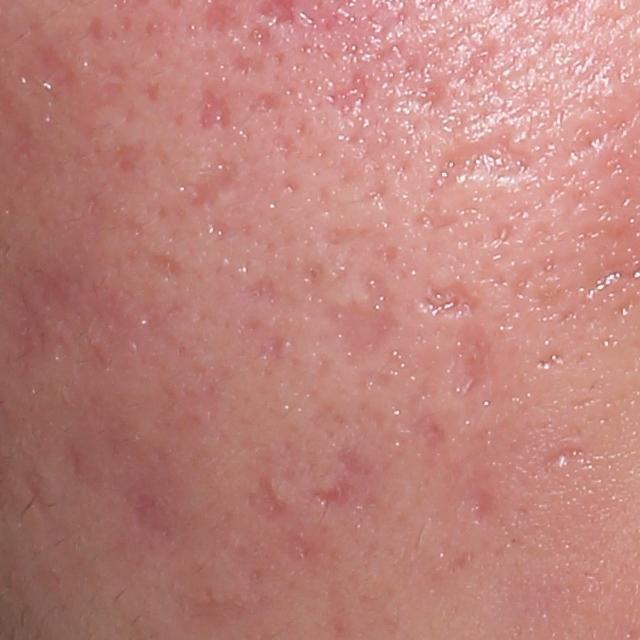atrophic_scar: (4, 260, 206, 391), (421, 118, 546, 227), (314, 264, 397, 369), (239, 470, 307, 524), (408, 275, 480, 322), (132, 489, 185, 551), (185, 154, 236, 217), (453, 328, 494, 402), (403, 413, 458, 458), (463, 485, 501, 527), (199, 80, 230, 129), (253, 325, 286, 367), (540, 445, 594, 468), (153, 246, 191, 278), (226, 47, 264, 76), (533, 348, 571, 376), (245, 275, 280, 301), (84, 11, 107, 50), (250, 88, 278, 116), (274, 134, 294, 161), (142, 79, 162, 101), (284, 177, 301, 193)
